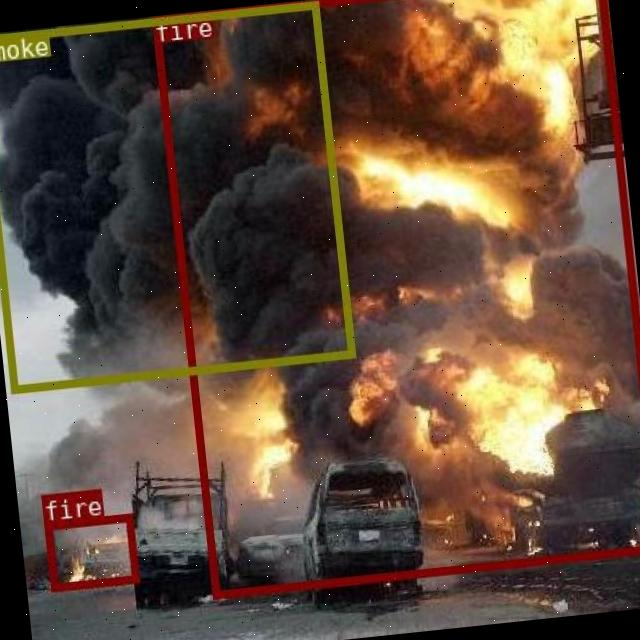fire: (151, 0, 640, 597), (43, 513, 138, 590)
smoke: (0, 0, 353, 390)
